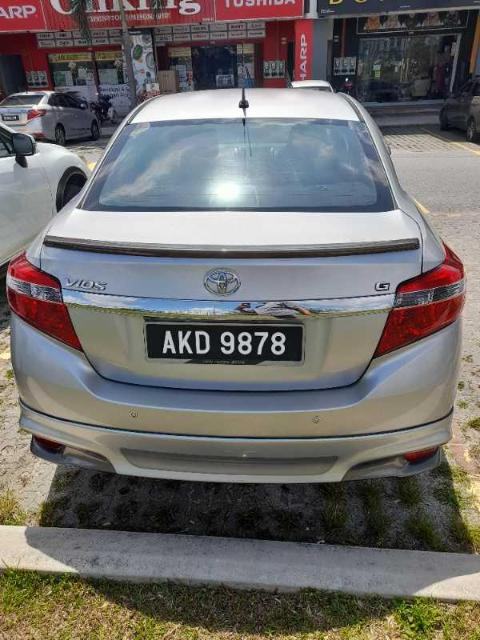License_Plate: (144, 320, 306, 366)
car: (6, 85, 468, 485)
